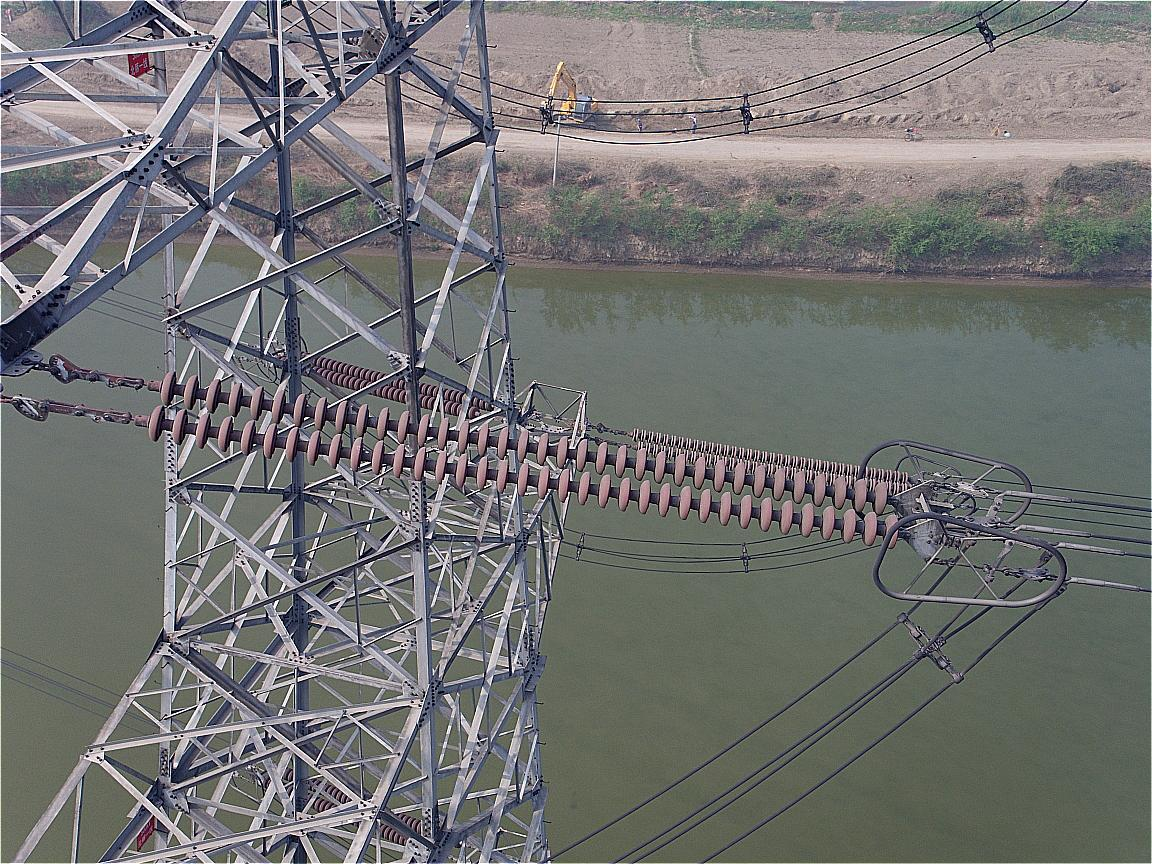insultor1: (147, 371, 900, 548)
insultor2: (634, 426, 909, 481)
